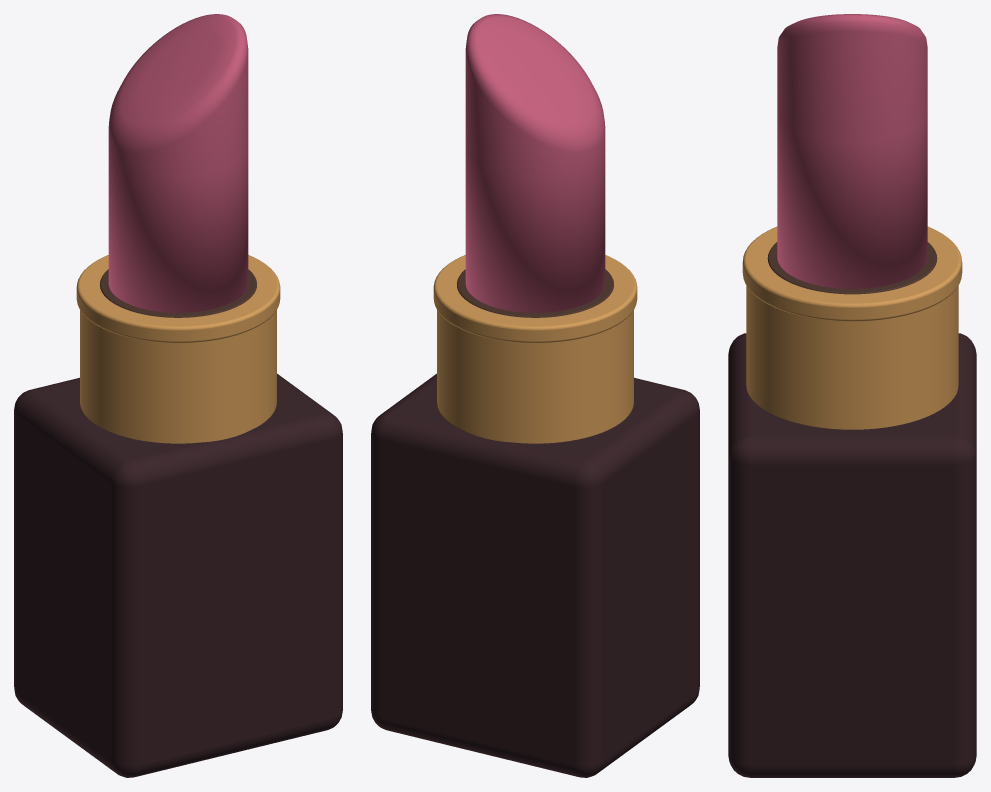
The model's file is lipstick.glb.
The picture shows the model from 3 angles, left to right: view 1: azimuth 30°, elevation 25°; view 2: azimuth 150°, elevation 25°; view 3: azimuth 270°, elevation 25°; orthographic projection. The views are drawn at different scales.
Visible parts, largest first — view 1: Rounded case, Slanted lipstick, Gold collar, Collar rim, Inner rim; view 2: Rounded case, Slanted lipstick, Gold collar, Collar rim, Inner rim; view 3: Rounded case, Slanted lipstick, Gold collar, Collar rim, Inner rim.
Part boxes in pixels (x1,y1,x2,y2): Rounded case: [14, 373, 342, 777]; Slanted lipstick: [108, 14, 248, 312]; Gold collar: [80, 310, 276, 443]; Collar rim: [76, 255, 280, 342]; Inner rim: [100, 269, 256, 317]; Rounded case: [371, 373, 699, 777]; Slanted lipstick: [465, 14, 605, 312]; Gold collar: [437, 310, 633, 443]; Collar rim: [433, 255, 637, 342]; Inner rim: [457, 269, 613, 317]; Rounded case: [728, 333, 976, 777]; Slanted lipstick: [777, 14, 927, 288]; Gold collar: [746, 285, 958, 429]; Collar rim: [742, 226, 962, 321]; Inner rim: [767, 242, 937, 294].
Bounding box in the file's own units: 0.0282 × 0.0807 × 0.0246.
